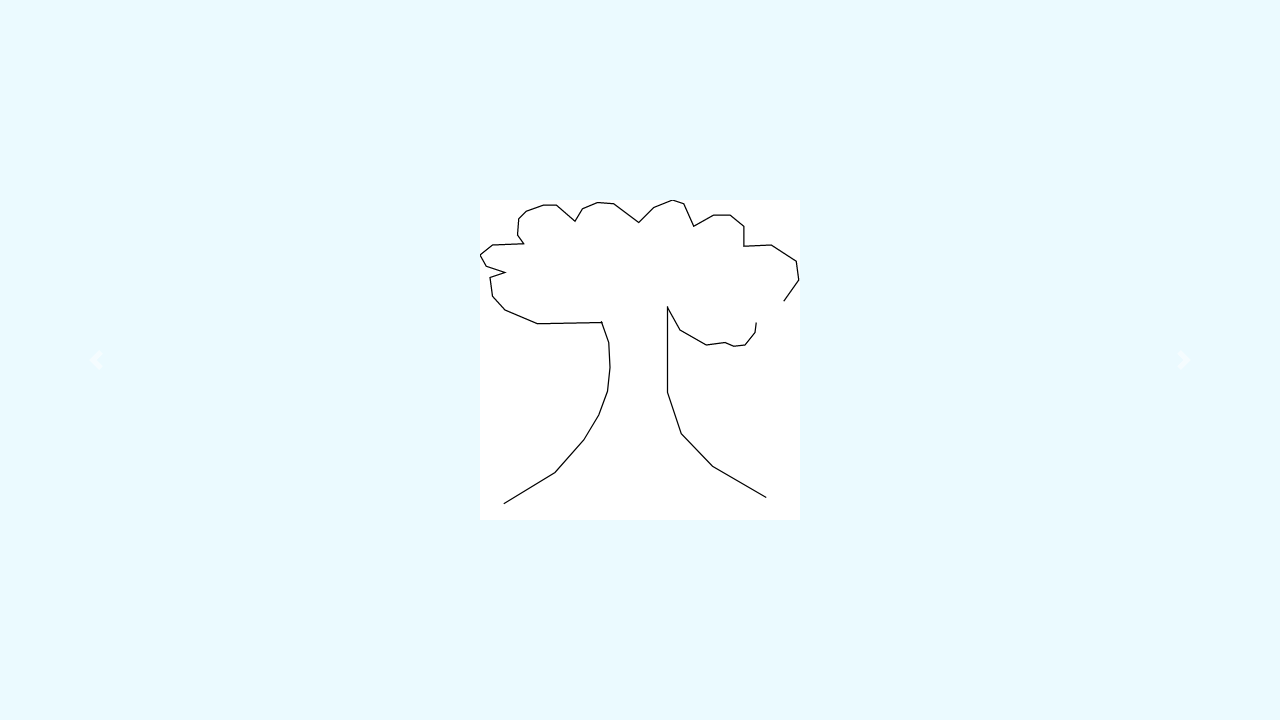tree: (474, 193, 806, 512)
